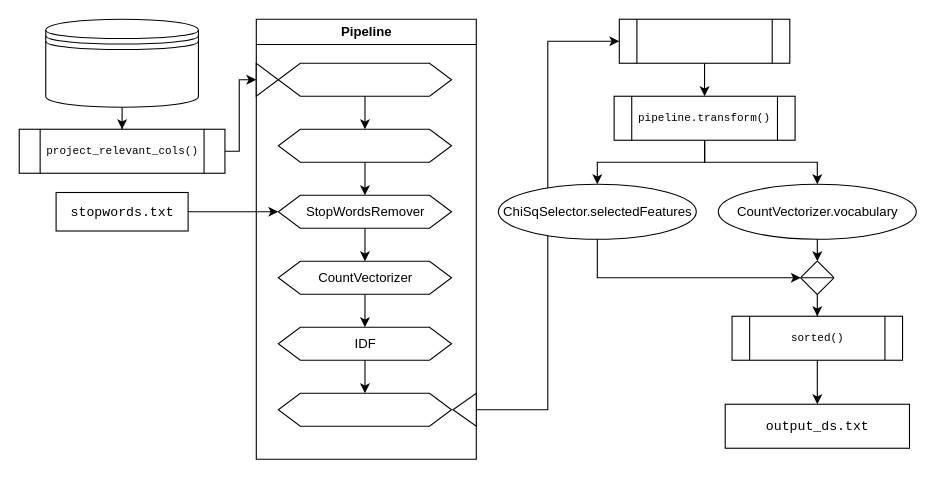
The diagram is 936 pixels wide and 479 high, and some of its shapes have lost their labels. The shapes that lost their labels are listed below. From the top down, each one's centre as x and y in pixels, then its label:
At pixel 704 40: "pipeline.fit()".
At pixel 121 62: "Amazon R eviews".
At pixel 364 79: "StringIndexer".
At pixel 364 145: "RegexTokenizer".
At pixel 364 409: "ChiSqSelector".
